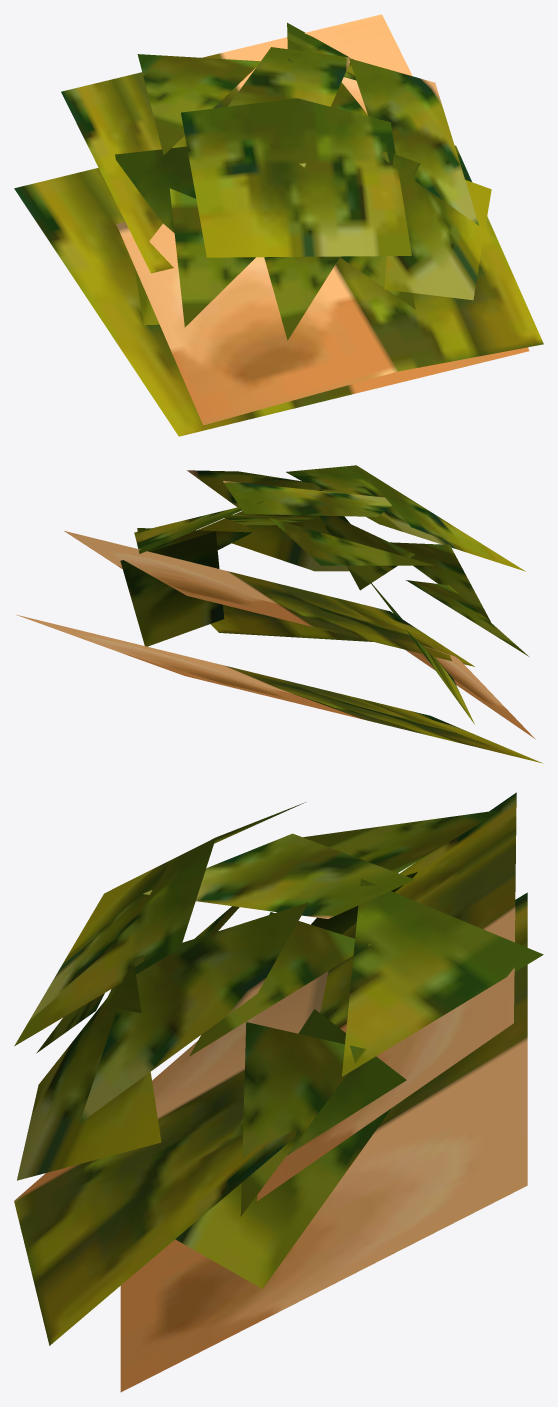
Rendered from fg_bushD_2_ye.dae.
The picture shows the model from 3 angles, top to bottom: view 1: azimuth 30°, elevation 25°; view 2: azimuth 150°, elevation 25°; view 3: azimuth 270°, elevation 25°; orthographic projection. The views are drawn at different scales.
Visible parts, largest first — view 1: fg_bushD_2_ye; view 2: fg_bushD_2_ye; view 3: fg_bushD_2_ye.
Boxes of the visible parts, box(x1,y1,x2,y2) form: fg_bushD_2_ye: box(14, 14, 543, 436); fg_bushD_2_ye: box(16, 465, 542, 763); fg_bushD_2_ye: box(14, 792, 543, 1392).
Size of the model in its own units: 47.83 by 31.26 by 36.53.
Materials: 1 (1 with a texture image).
